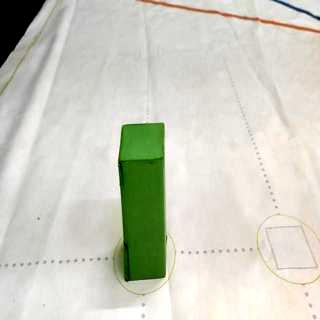greenbox: (118, 122, 168, 282)
